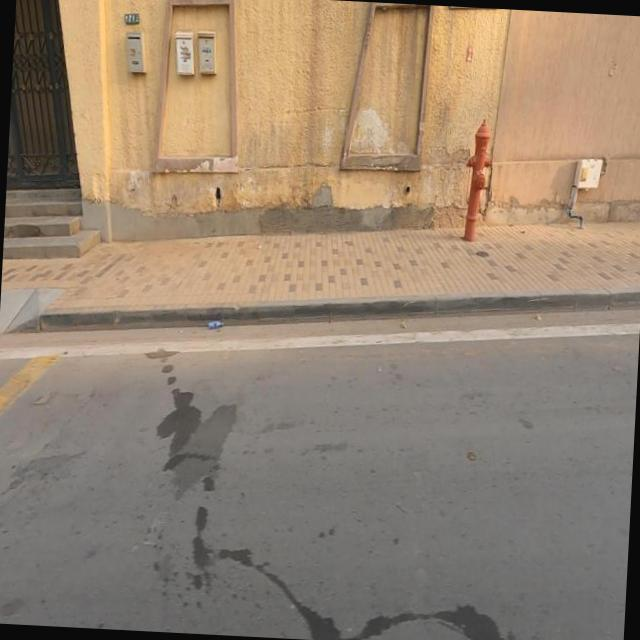debris: (172, 278, 262, 372)
